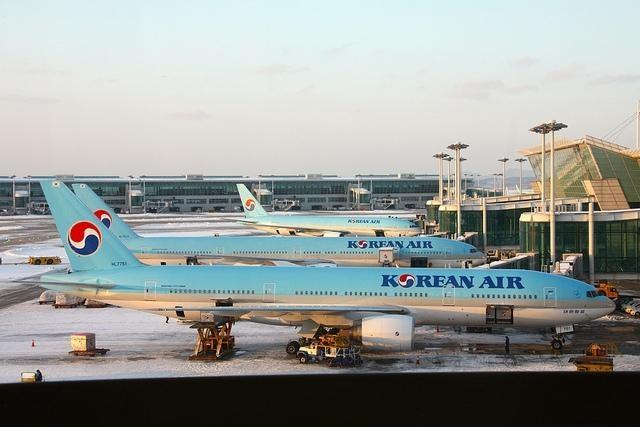car: (625, 303, 640, 313), (630, 306, 640, 315)
truck: (296, 334, 362, 366), (595, 282, 619, 300)
